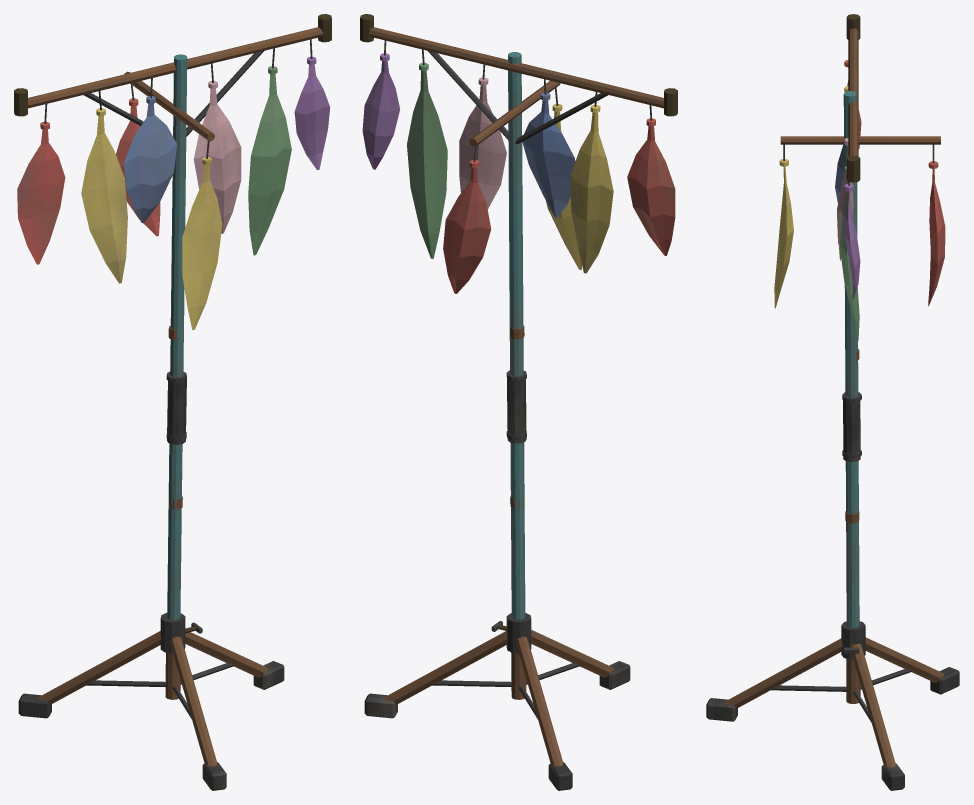
The model's file is W34_balloon_seller_pole.glb.
3 views of the same model, side by side, from view 1: azimuth 30°, elevation 25°; view 2: azimuth 150°, elevation 25°; view 3: azimuth 270°, elevation 25° (orthographic). The views are drawn at different scales.
Parts seen in each view (by area): view 1: Central steel staff; view 2: Central steel staff; view 3: Central steel staff.
Part boxes in pixels (left/top/right/bottom): Central steel staff: left=14, top=14, right=331, bottom=790; Central steel staff: left=360, top=14, right=677, bottom=790; Central steel staff: left=706, top=14, right=959, bottom=790.
Bounding box in the file's own units: 0.9826 × 2 × 0.714.
Materials: 11 (11 with a texture image).
